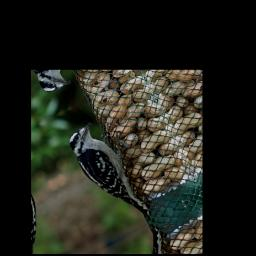Woodpecker: (58, 109, 162, 241)
